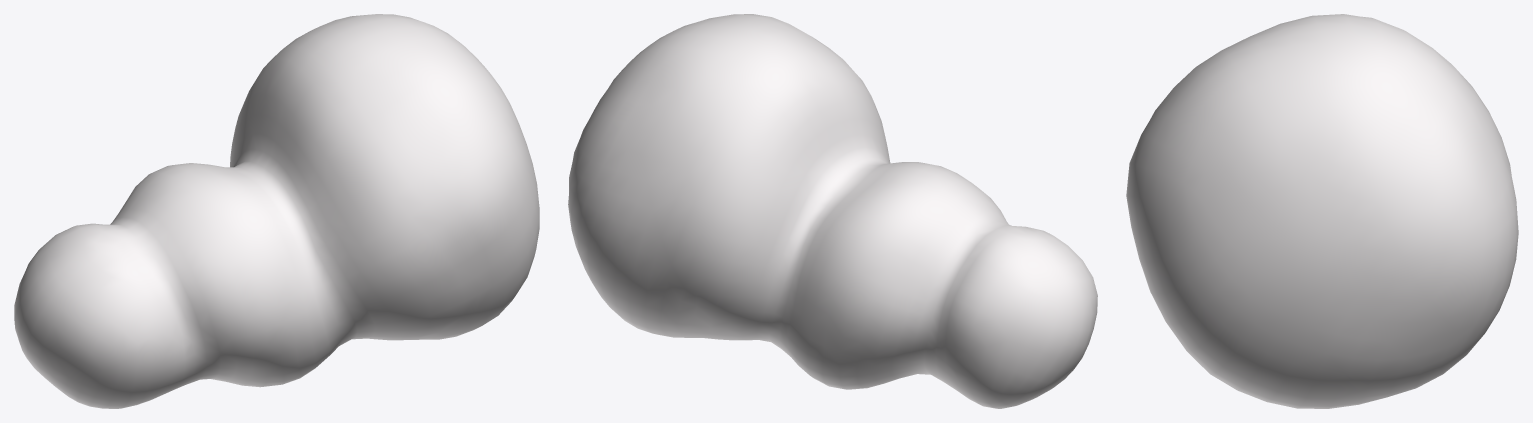
File: Cloud.glb
The picture shows the model from 3 angles, left to right: view 1: azimuth 30°, elevation 25°; view 2: azimuth 150°, elevation 25°; view 3: azimuth 270°, elevation 25°; orthographic projection. The views are drawn at different scales.
Visible parts, largest first — view 1: Cloud.1; view 2: Cloud.1; view 3: Cloud.1.
Part boxes in pixels (box(x1,y1,x2,y2)): Cloud.1: box(14, 14, 539, 408); Cloud.1: box(568, 14, 1097, 408); Cloud.1: box(1126, 14, 1518, 408).
Size of the model in its own units: 0.0805 by 0.0495 by 0.0491.
Materials: 1 (1 with a texture image).
